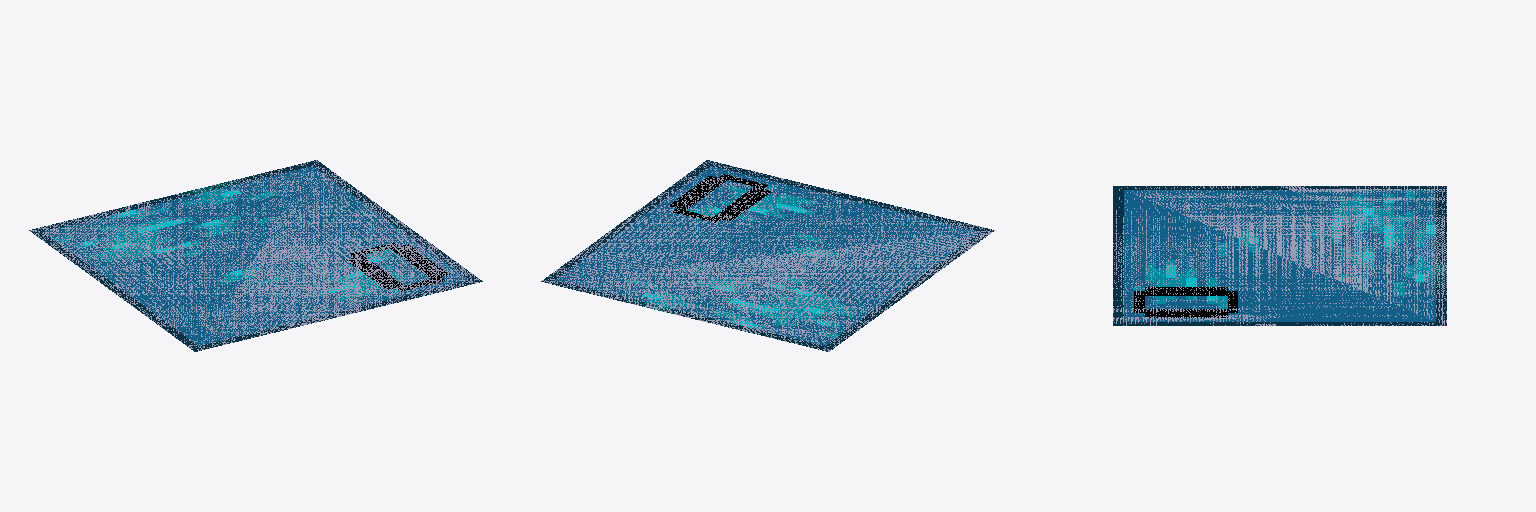
3 views of the same model, side by side, from view 1: azimuth 30°, elevation 25°; view 2: azimuth 150°, elevation 25°; view 3: azimuth 270°, elevation 25° (orthographic).
Visible parts, largest first — view 1: Mesh1 Model; view 2: Mesh1 Model; view 3: Mesh1 Model.
Boxes of the visible parts, <box> form: Mesh1 Model: <box>29,160,482,351</box>; Mesh1 Model: <box>541,160,994,351</box>; Mesh1 Model: <box>1113,186,1446,325</box>.
Bounding box in the file's own units: 32 × 0 × 32.
Materials: 2 (1 with a texture image).